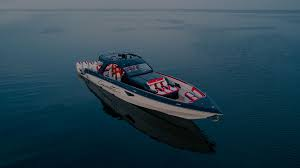boat: (76, 48, 224, 121)
